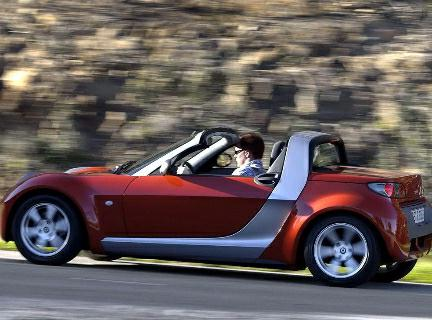smart-roadster: (15, 121, 408, 286)
